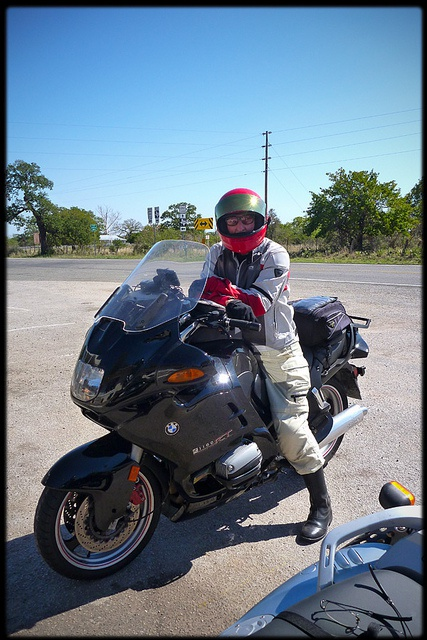non-vehicle: (30, 235, 375, 590), (218, 483, 421, 634)
